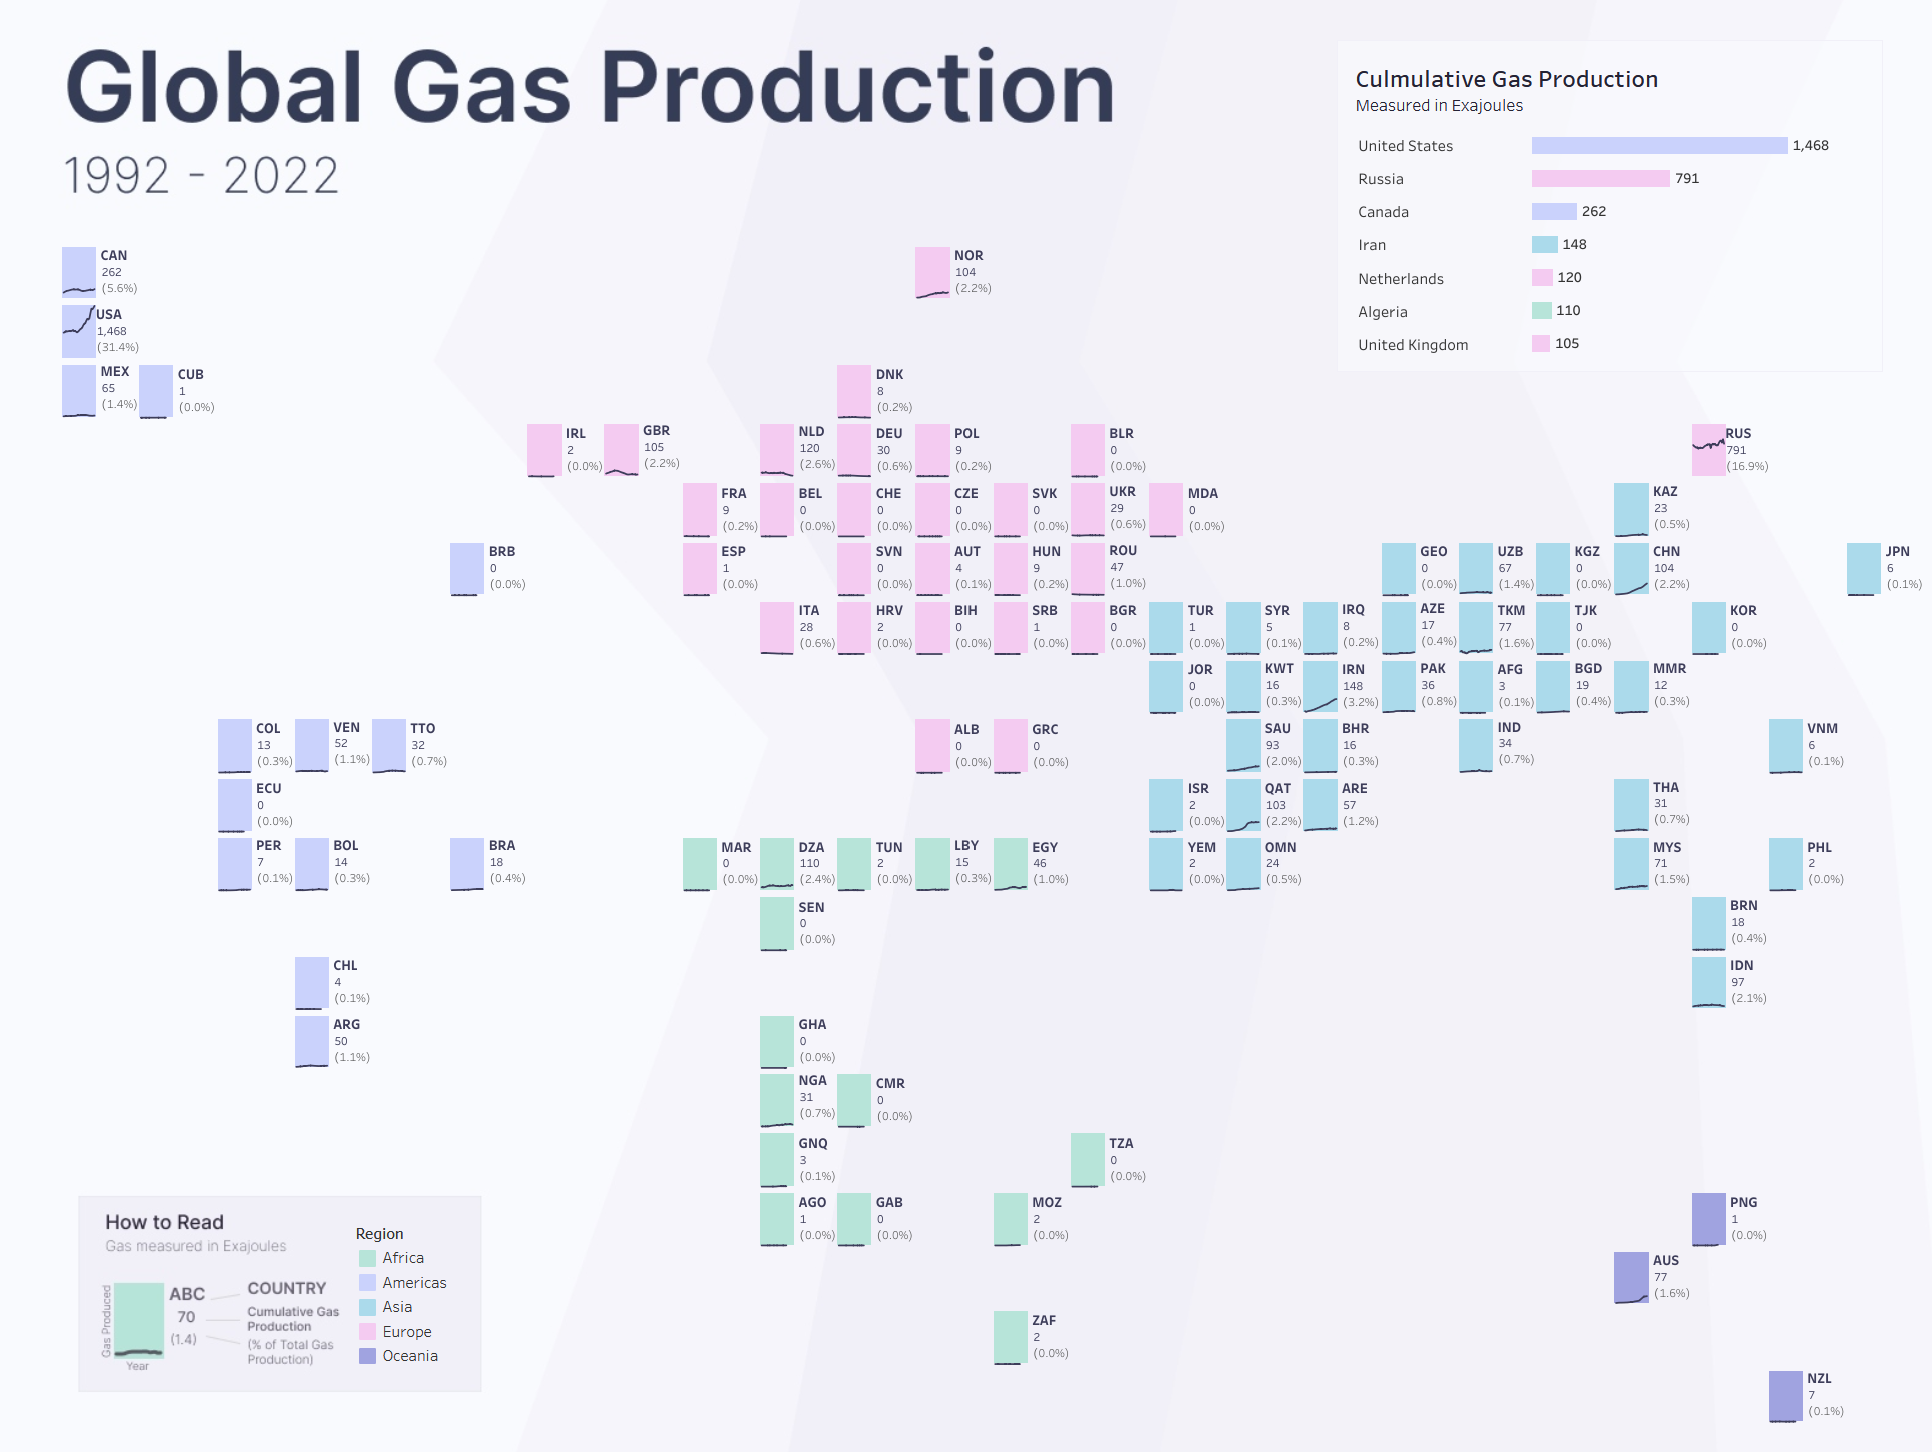

Layout of this report page (visuals, bound fields, positions):
{"tool":"tableau","page":{"name":"MOM 26","canvas":[1600,1200],"ordinal":0},"visuals":[{"type":"image","param":"Image/Untitled (41).png","box":[0,0,1600,1200]},{"type":"blank","box":[0,0,1600,174]},{"type":"worksheet","title":"Bar Chart","mark":"Automatic","rows":["Country Name"],"cols":["Cumulative production"],"box":[1091,38,446,271]},{"type":"worksheet","title":"Map no labels","mark":"Line","rows":["coordinates_1","Value"],"cols":["Calculation_4122482546849955841"],"box":[0,174,1600,1026]},{"type":"worksheet","title":"Labels","mark":"Line","rows":["coordinates_1"],"cols":["Calculation_4122482546849955841"],"box":[0,174,1600,1026]},{"type":"legend","title":"Map no labels","param":"[federated.0e6vfdg198ive91avniun0pw7e46].[none:region:nk]","box":[290,1004,94,118]}]}

Visuals, with their boxes in screenshot pixels (x1, y1, x2, y2), scaled from the page's 1600x1200 canvas onto the 1932x1452 screenshot:
image: [0,0,1931,1451]
blank: [0,0,1931,211]
"Bar Chart" worksheet: [1317,46,1856,374]
"Map no labels" worksheet (Line marks): [0,211,1931,1451]
"Labels" worksheet (Line marks): [0,211,1931,1451]
"Map no labels" legend: [350,1215,464,1358]
